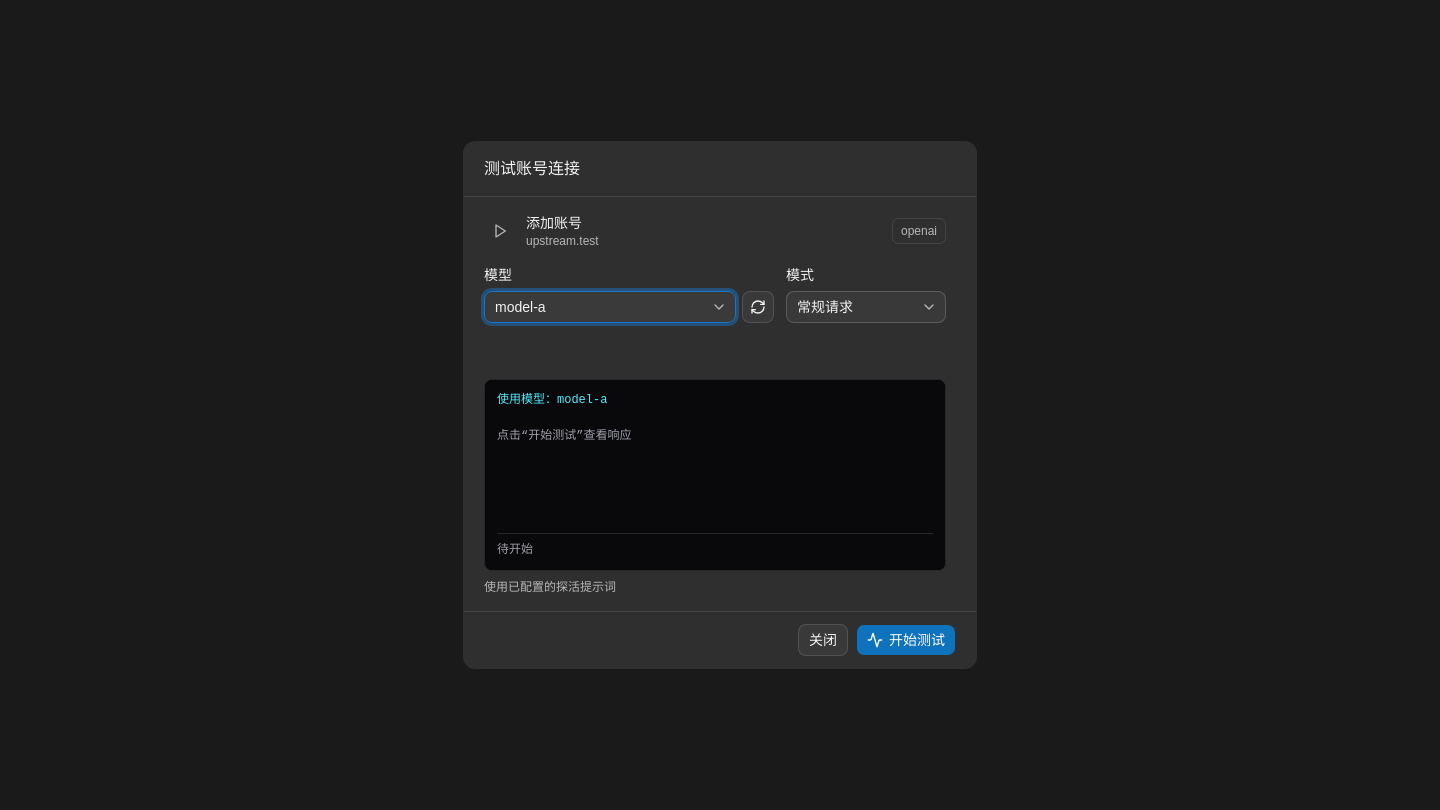
Test case: 已选模型从刷新结果消失时要求重新选择，不能自动换用其他模型
Expected: the button "开始测试" is enabled, [856,624,956,656]
Click the dropdown named "选择测试模式": (866, 307) [786,291,946,323]
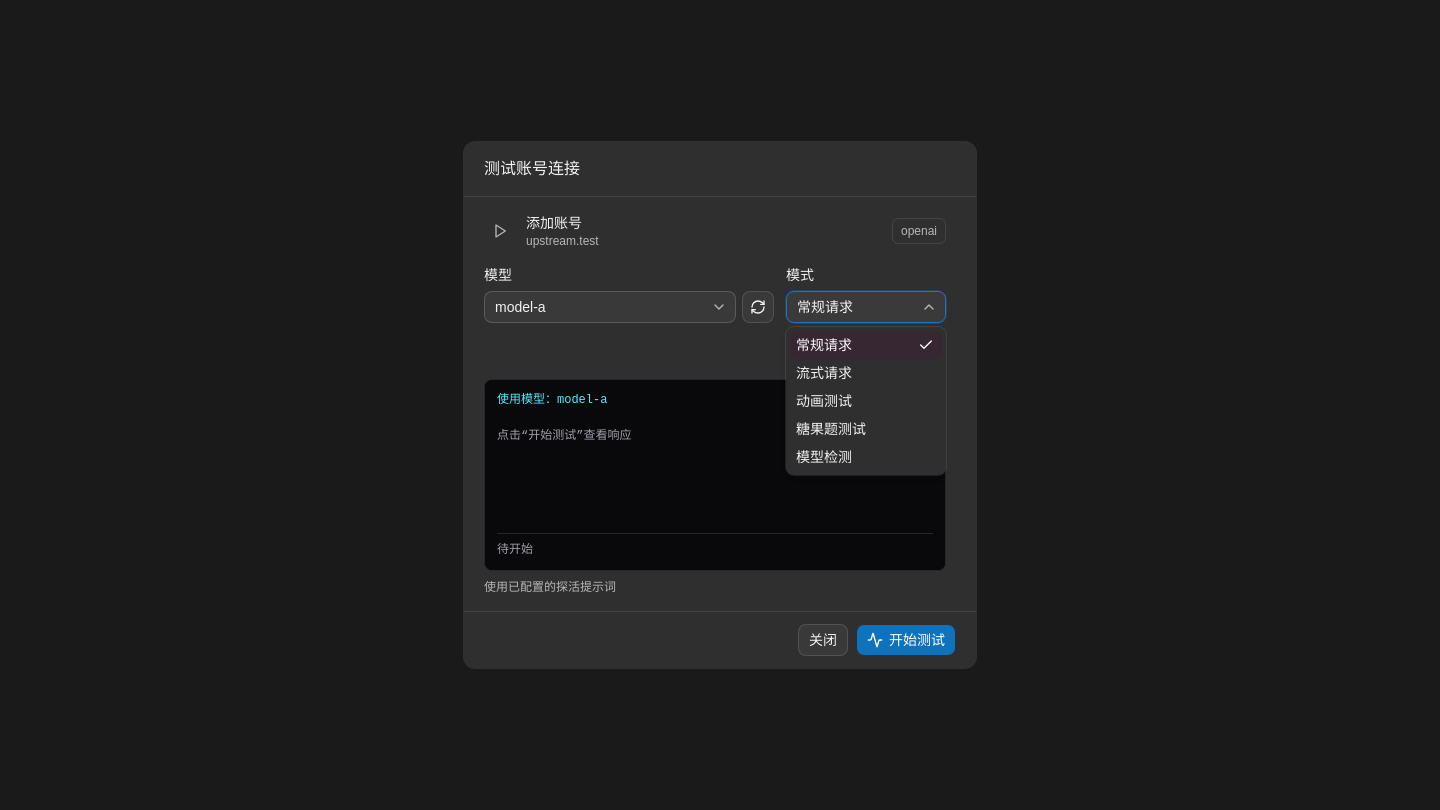
Click the option "动画测试": (824, 401) [796,393,852,409]
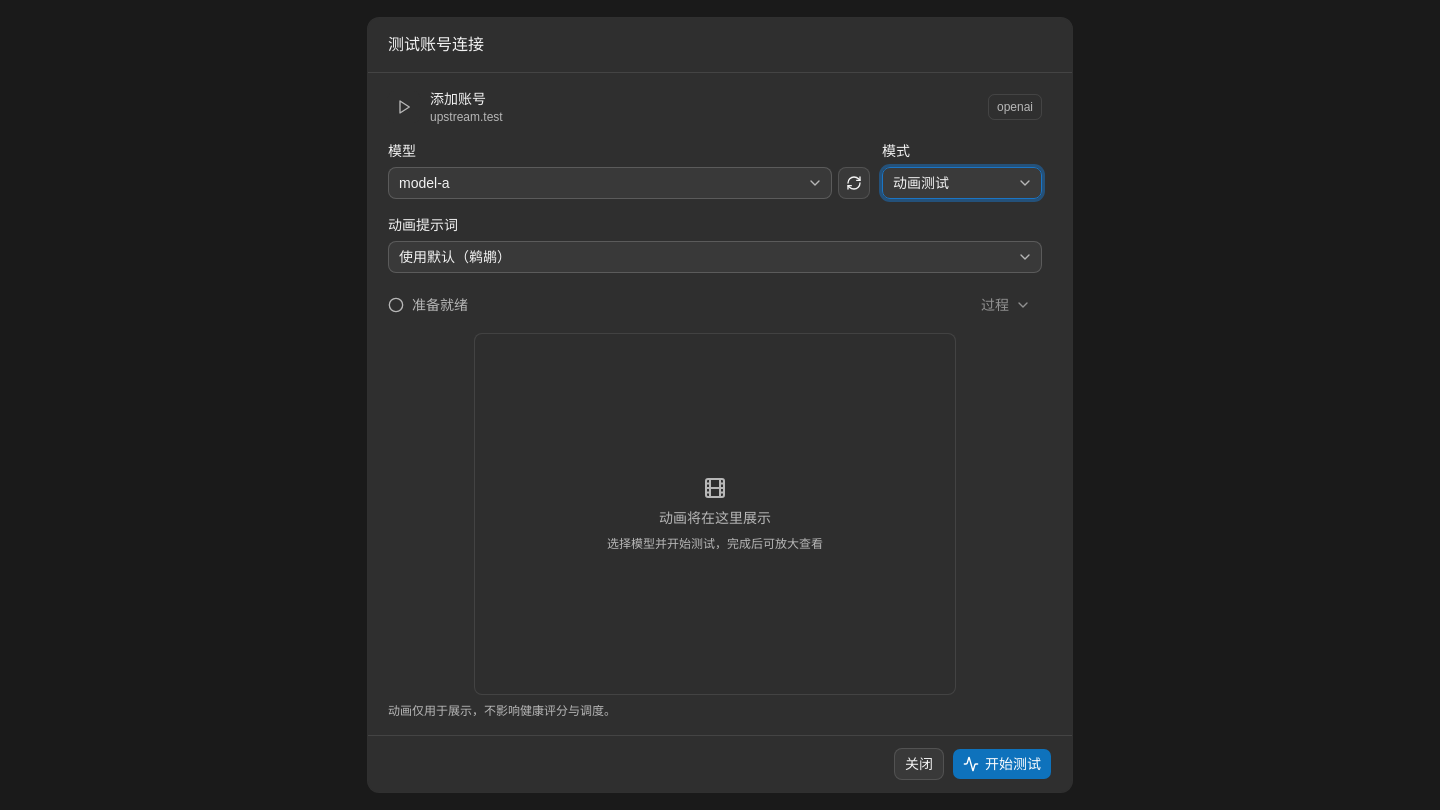
Click the button named "重新获取上游模型": (854, 183) [838,167,870,199]
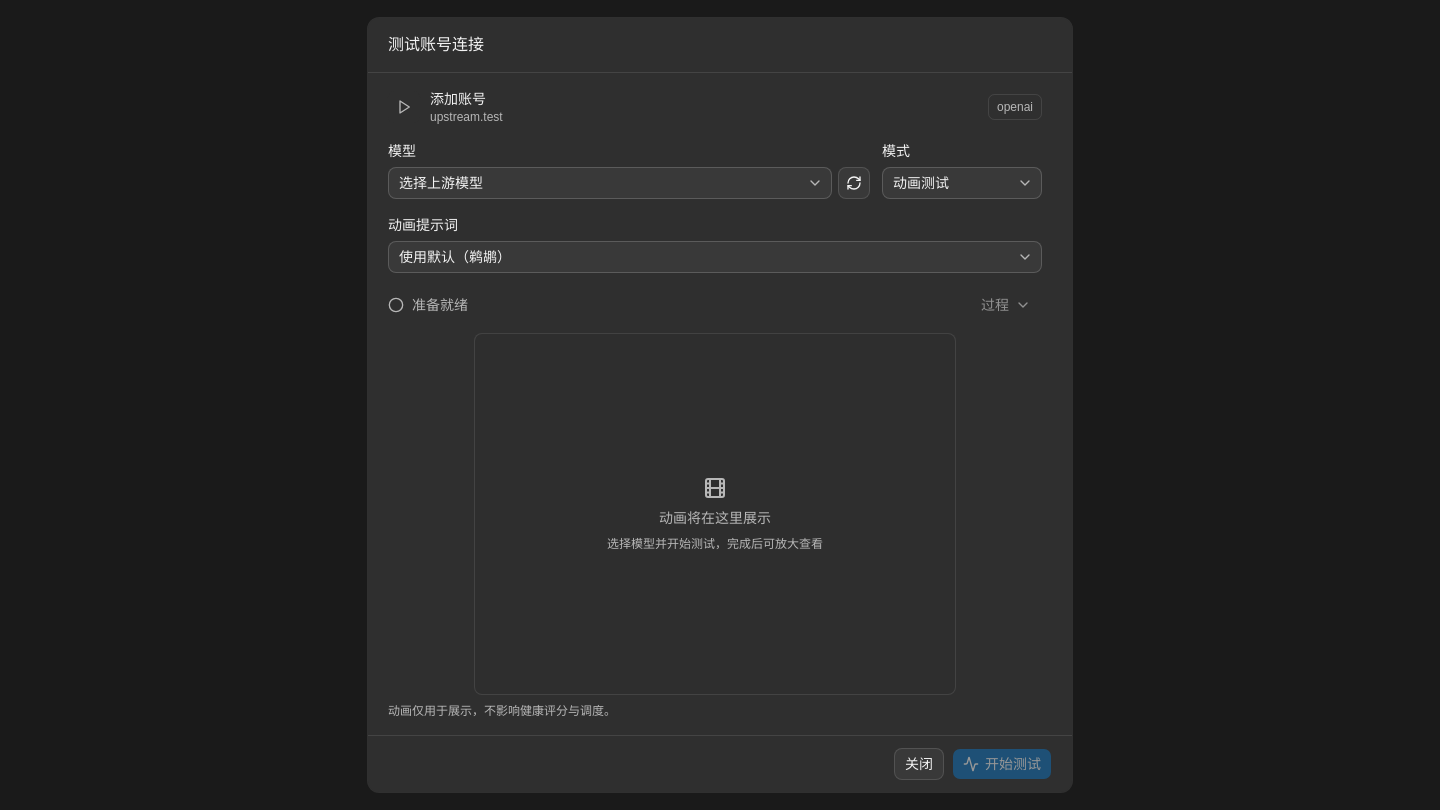
Now the dropdown named "选择测试模型" shows "选择上游模型", box [388,167,832,199]
Now the button "开始测试" is disabled, box [952,748,1052,780]
